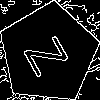Z: (23, 28, 77, 78)
